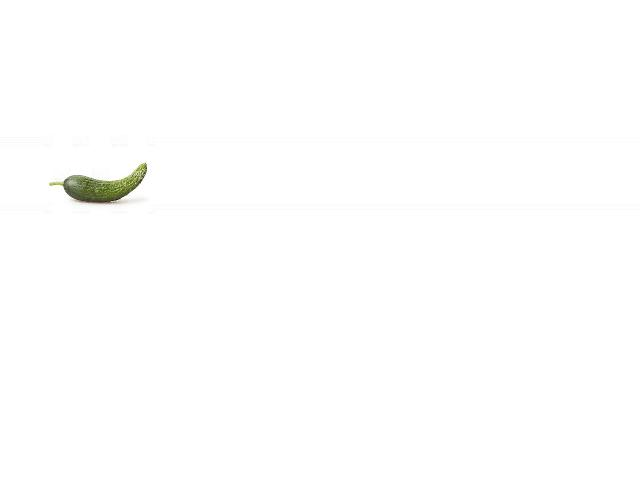cucumber: (48, 163, 146, 202)
